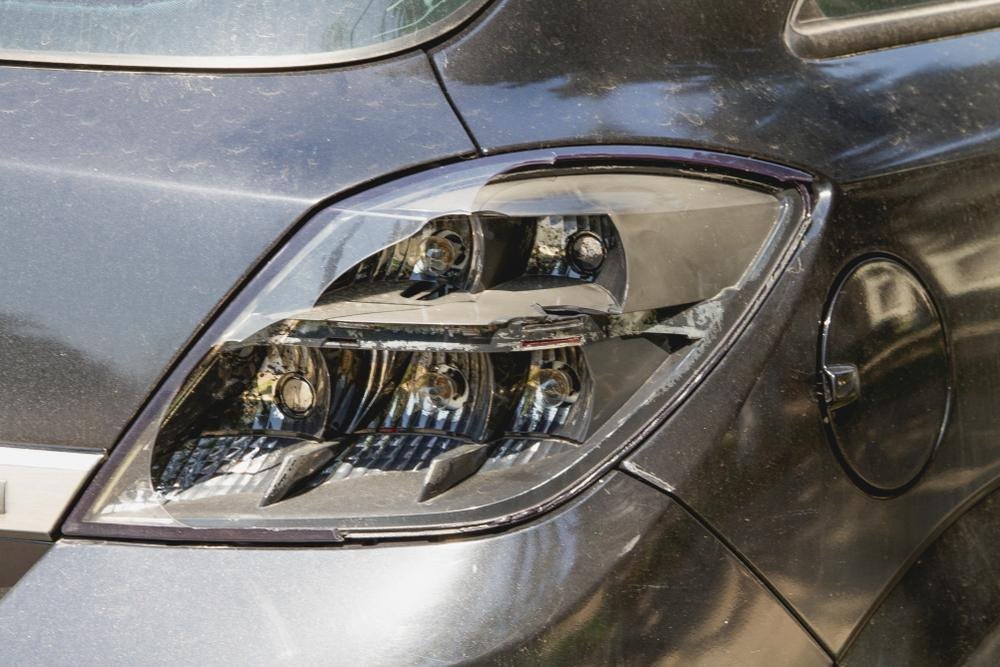lamp broken: (62, 148, 819, 543)
